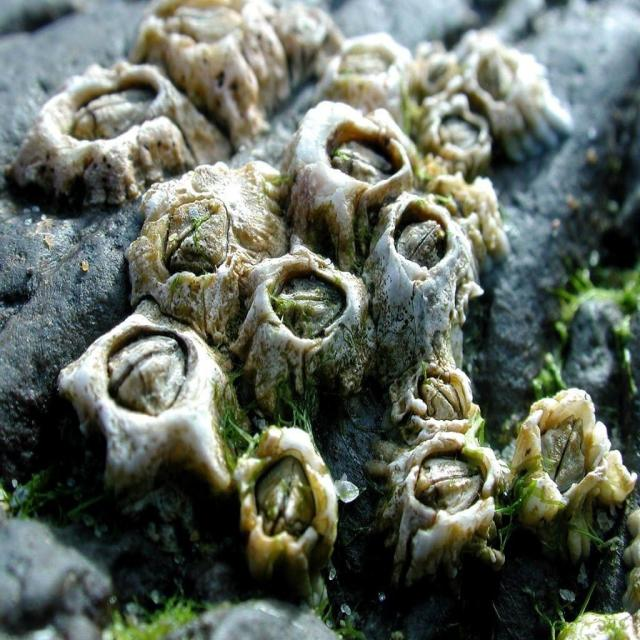barnacles: (57, 314, 237, 497), (506, 377, 638, 602), (131, 168, 277, 332), (218, 426, 349, 606), (21, 60, 201, 186), (372, 444, 520, 591), (246, 252, 378, 406), (279, 100, 414, 237), (366, 199, 482, 337), (460, 22, 569, 108), (383, 352, 482, 445), (320, 25, 414, 118), (421, 97, 494, 174)
